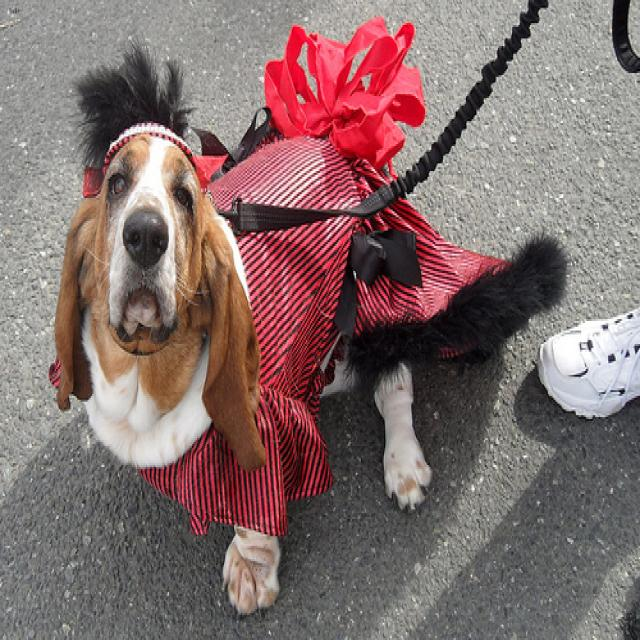dog-basset_hound: (45, 129, 269, 488)
